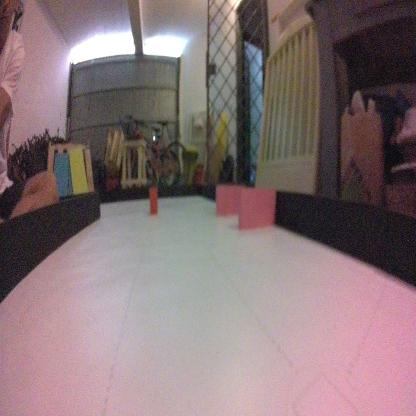magenta: (237, 187, 277, 236), (214, 181, 244, 217)
red: (146, 182, 158, 221)
